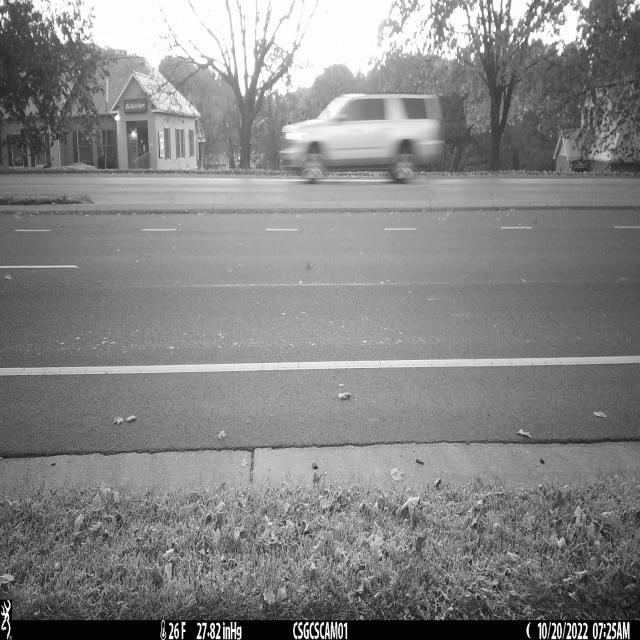SUV: (278, 94, 445, 184)
